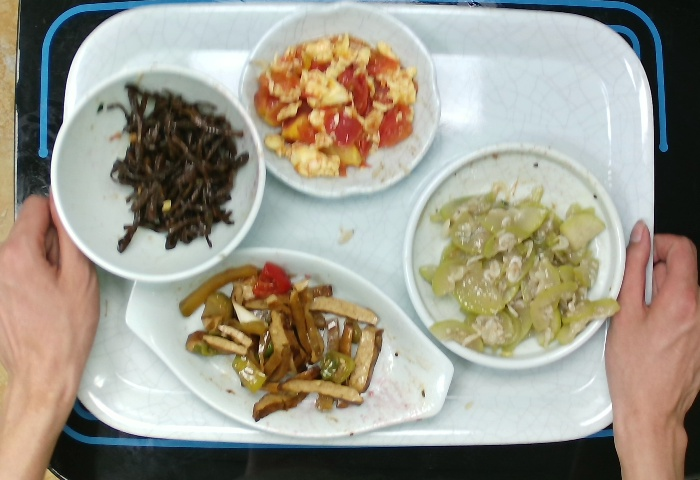JYsf-Ao_Yuan_Wan: (236, 1, 446, 204)
JYsf-Fan_Wan: (45, 59, 269, 288)
JYsf-Xiao_Yuan_Pan: (398, 139, 630, 375)
JYsf-Yu_Pan: (119, 242, 458, 446)
